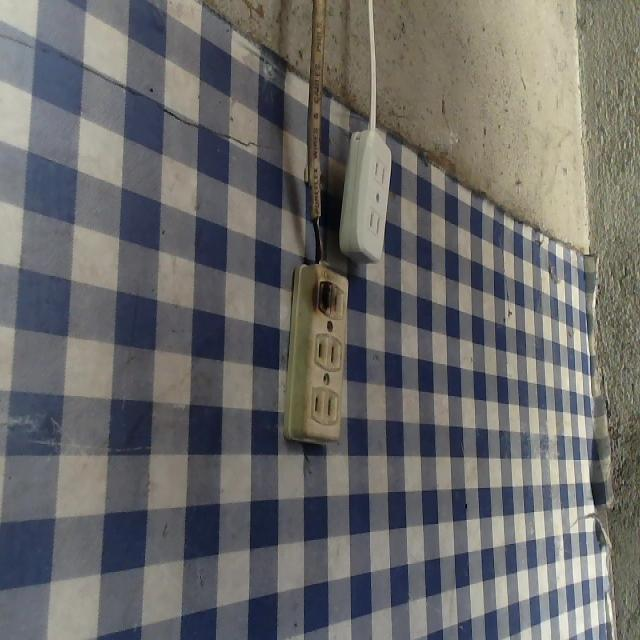-: (309, 272, 337, 325)
